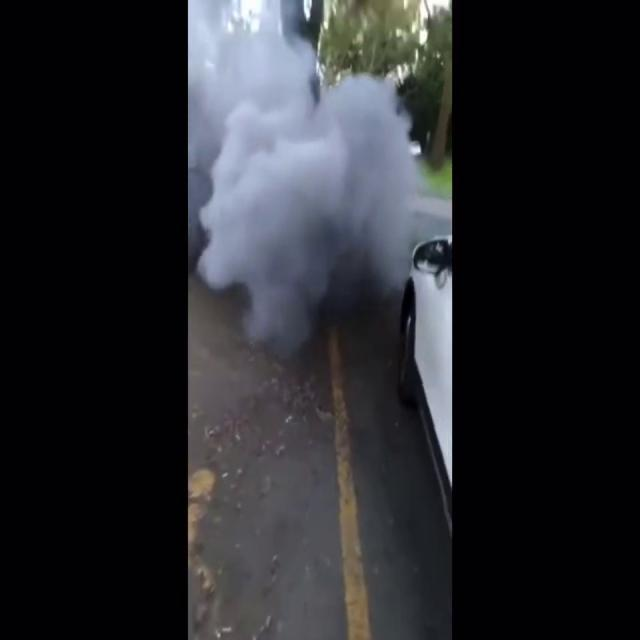Smoke: (188, 2, 446, 350)
